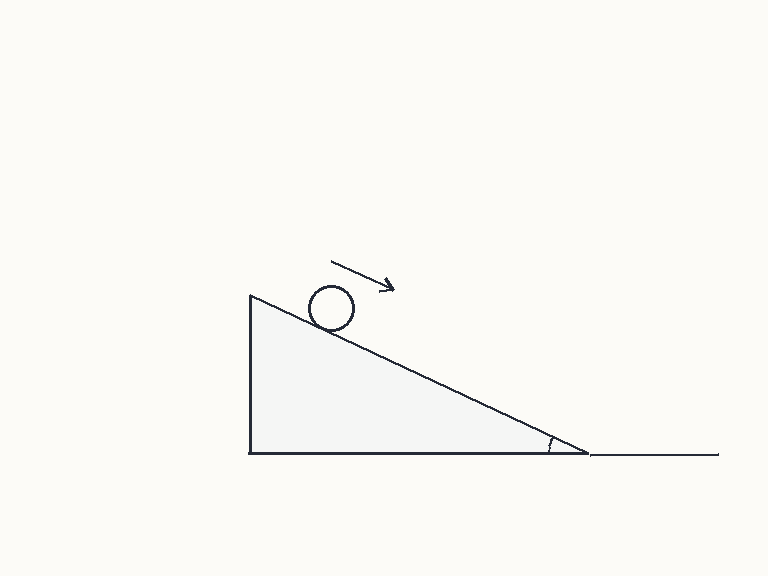ball: (306, 283, 356, 333)
ramp: (248, 294, 591, 456)
